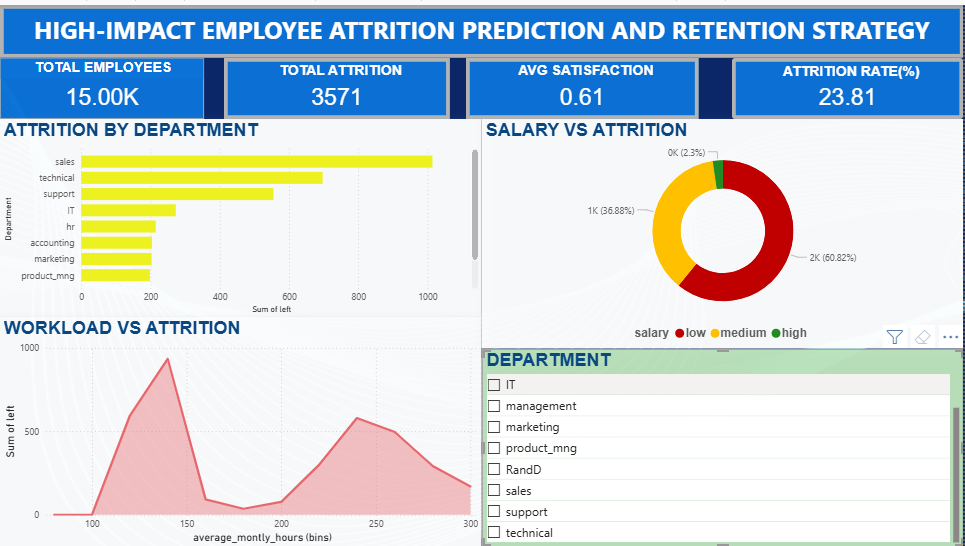

The page's visual inventory and layout, read from the dashboard file:
{"tool":"powerbi","page":{"name":"Page 1","canvas":[1280,720],"ordinal":0},"visuals":[{"type":"card","title":"TOTAL ATTRITION","fields":{"Values":["Sum(HR_capstone_dataset.left)"]},"box":[297.1,70,300,81.4],"z":0},{"type":"card","title":"TOTAL EMPLOYEES","fields":{"Values":["CountNonNull(HR_capstone_dataset.satisfaction_level)"]},"box":[0,70,271.4,81.4],"z":1000},{"type":"clusteredBarChart","title":"ATTRITION BY DEPARTMENT","fields":{"Category":["HR_capstone_dataset.Department"],"Y":["Sum(HR_capstone_dataset.left)"]},"box":[0,151.7,640,263.3],"z":2000},{"type":"card","title":"AVG SATISFACTION ","fields":{"Values":["Avg(HR_capstone_dataset.satisfaction_level)"]},"box":[618.6,70,308.6,81.4],"z":3000},{"type":"card","title":"ATTRITION RATE(%)","fields":{"Values":["HR_capstone_dataset.ATTRITION RATE"]},"box":[972.9,70,307.1,81.4],"z":4000},{"type":"areaChart","title":"WORKLOAD VS ATTRITION","fields":{"Y":["Sum(HR_capstone_dataset.left)"],"Category":["HR_capstone_dataset.average_montly_hours (bins)"]},"box":[0,414.3,640,305.7],"z":5000},{"type":"donutChart","title":"SALARY VS ATTRITION","fields":{"Category":["HR_capstone_dataset.salary"],"Y":["Sum(HR_capstone_dataset.left)"]},"box":[640,151.7,640,305],"z":6000},{"type":"listSlicer","title":"DEPARTMENT","fields":{"Values":["HR_capstone_dataset.Department"]},"box":[640,456.7,640,263.3],"z":7000},{"type":"textbox","box":[0,0,1280,70],"z":8000}]}

Visuals, with their boxes in screenshot pixels (x1, y1, x2, y2), scaled from the page's 1280x720 canvas onto the 965x546 screenshot:
"TOTAL ATTRITION" card: x1=224, y1=53, x2=450, y2=115
"TOTAL EMPLOYEES" card: x1=0, y1=53, x2=205, y2=115
"ATTRITION BY DEPARTMENT" clusteredBarChart: x1=0, y1=115, x2=482, y2=315
"AVG SATISFACTION " card: x1=466, y1=53, x2=699, y2=115
"ATTRITION RATE(%)" card: x1=733, y1=53, x2=964, y2=115
"WORKLOAD VS ATTRITION" areaChart: x1=0, y1=314, x2=482, y2=545
"SALARY VS ATTRITION" donutChart: x1=482, y1=115, x2=964, y2=346
"DEPARTMENT" listSlicer: x1=482, y1=346, x2=964, y2=545
textbox: x1=0, y1=0, x2=964, y2=53
